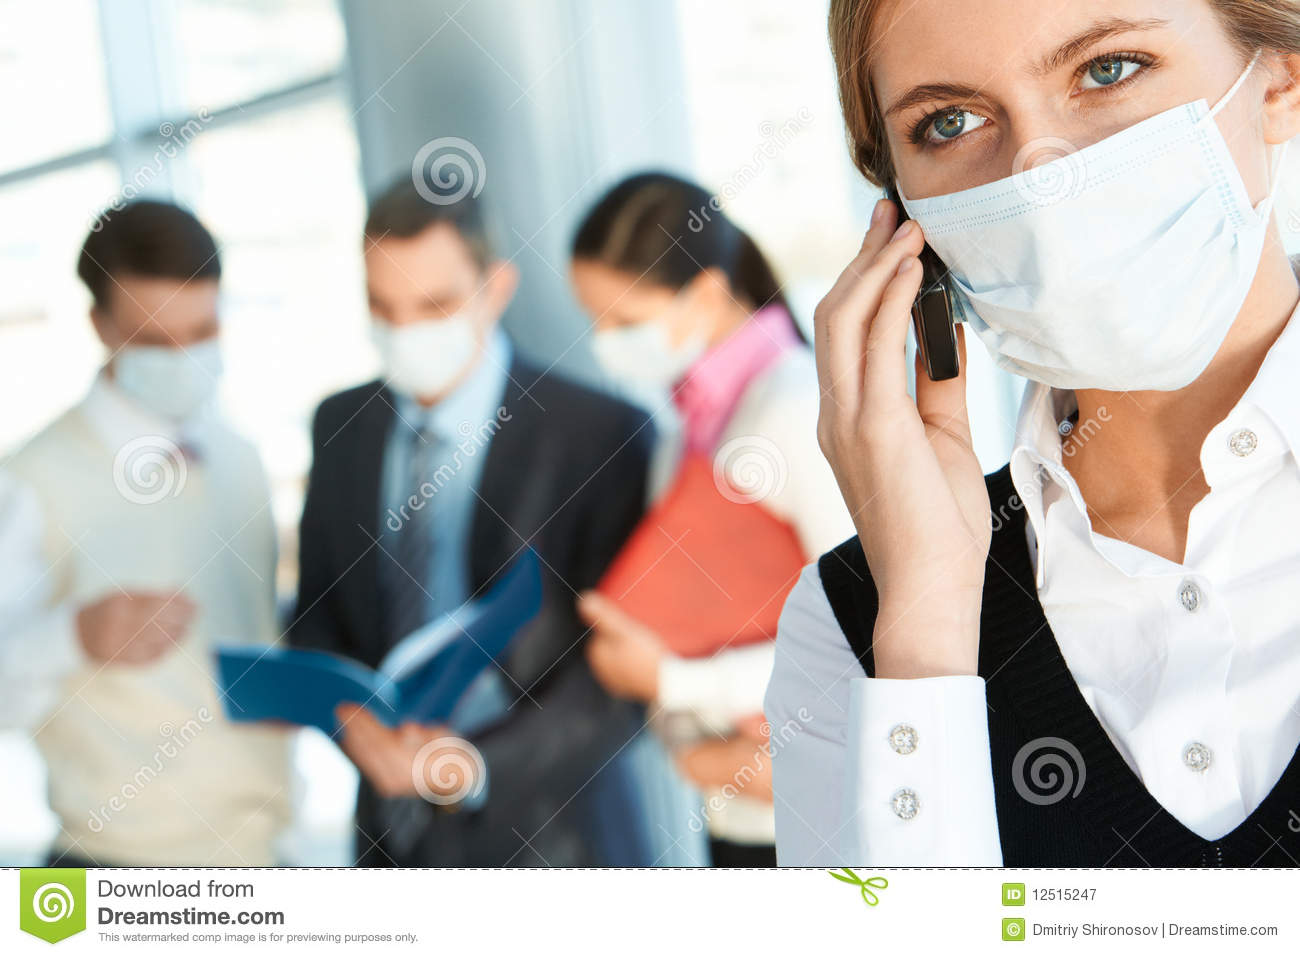mask: (907, 105, 1265, 394)
